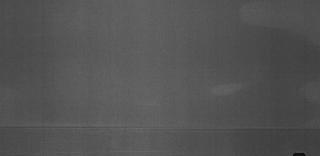punching hole: (291, 152, 309, 156)
welding line: (2, 122, 318, 134)
